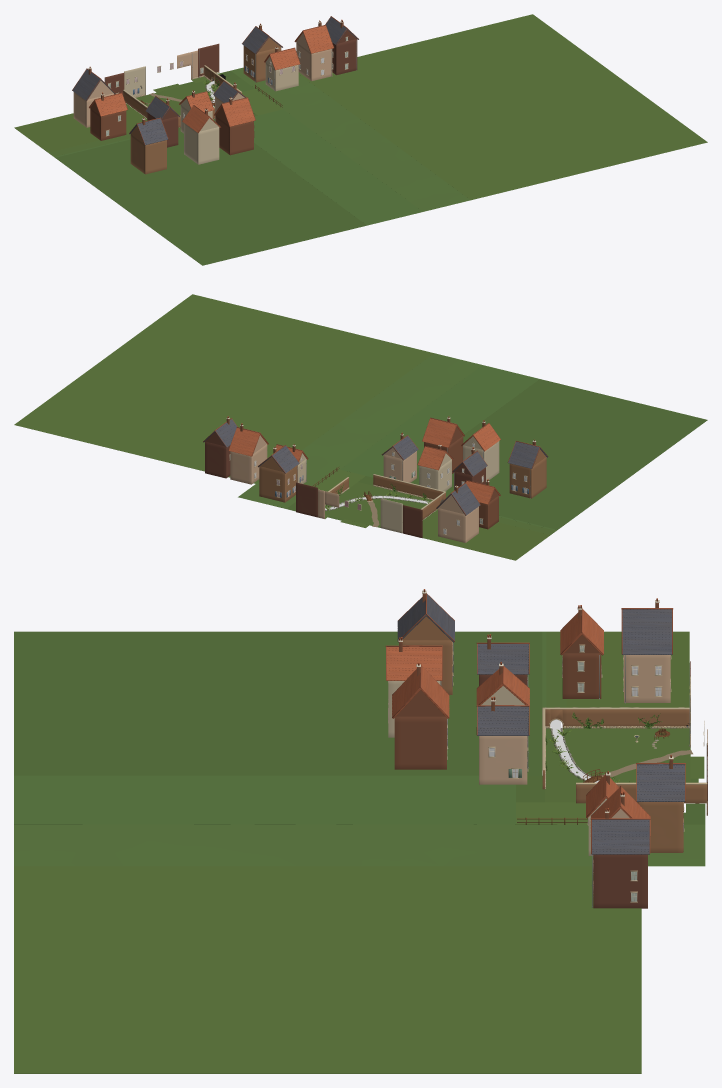
Rendered from backyard.glb.
3 views of the same model, one above another, from view 1: azimuth 30°, elevation 25°; view 2: azimuth 150°, elevation 25°; view 3: azimuth 270°, elevation 25° (orthographic). The views are drawn at different scales.
Parts seen in each view (by area): view 1: Sammel Blatt, Sammel Ziegel, Sammel Stein, Sammel Putz, Sammel Lack; view 2: Sammel Blatt, Sammel Ziegel, Sammel Stein, Sammel Putz, Sammel Lack; view 3: Sammel Blatt, Sammel Stein, Sammel Ziegel, Sammel Putz, Sammel Lack.
Part boxes in pixels (bbox=[...]): Sammel Blatt: bbox=[14, 14, 707, 265]; Sammel Ziegel: bbox=[88, 22, 357, 174]; Sammel Stein: bbox=[72, 16, 358, 145]; Sammel Putz: bbox=[73, 19, 343, 164]; Sammel Lack: bbox=[106, 37, 348, 135]; Sammel Blatt: bbox=[14, 294, 707, 560]; Sammel Ziegel: bbox=[205, 418, 546, 538]; Sammel Stein: bbox=[203, 417, 548, 534]; Sammel Putz: bbox=[226, 416, 535, 542]; Sammel Lack: bbox=[229, 443, 528, 534]; Sammel Blatt: bbox=[14, 631, 705, 1073]; Sammel Stein: bbox=[385, 593, 707, 902]; Sammel Ziegel: bbox=[394, 593, 707, 908]; Sammel Putz: bbox=[388, 589, 707, 855]; Sammel Lack: bbox=[447, 645, 707, 901].
Size of what is drawn, in the model's own units: 130 by 12.74 by 86.24.
